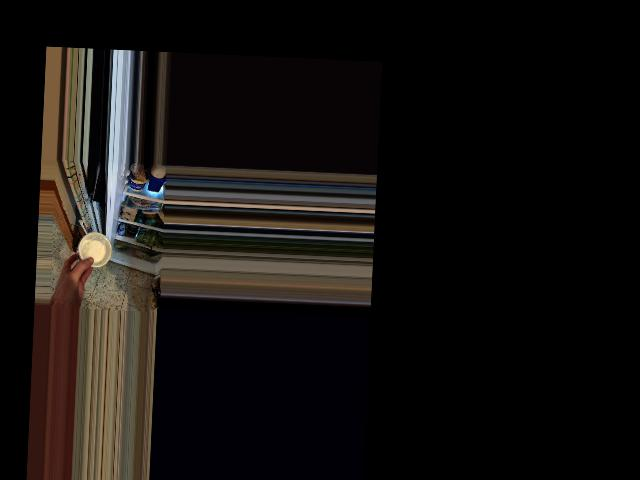cotage: (73, 233, 109, 268)
